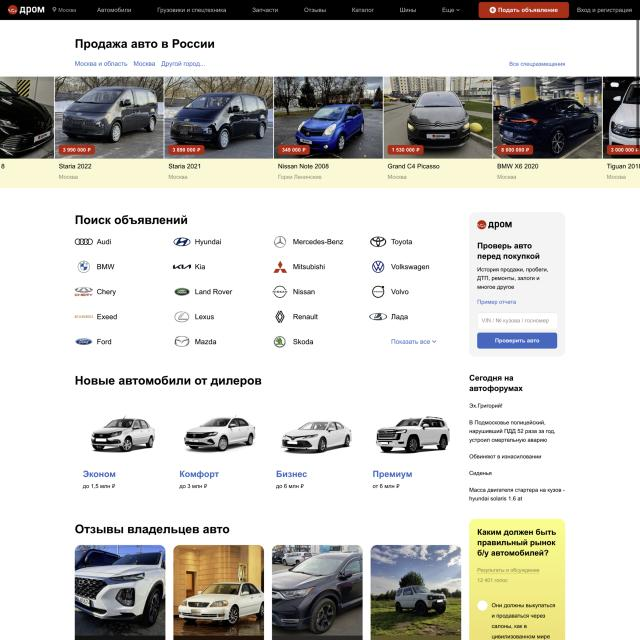logo: (5, 2, 46, 17), (271, 258, 290, 276), (72, 285, 94, 298), (172, 310, 192, 324), (271, 284, 289, 299), (369, 235, 388, 249), (73, 235, 93, 248), (370, 259, 387, 274), (174, 334, 192, 348), (172, 236, 192, 248), (272, 234, 288, 249), (368, 310, 388, 322), (75, 259, 92, 273), (371, 284, 386, 299), (272, 334, 286, 350), (172, 286, 192, 297), (73, 336, 93, 346), (172, 262, 193, 271), (73, 312, 96, 320), (274, 308, 285, 324)
navigation: (51, 2, 476, 18), (74, 57, 210, 70)
